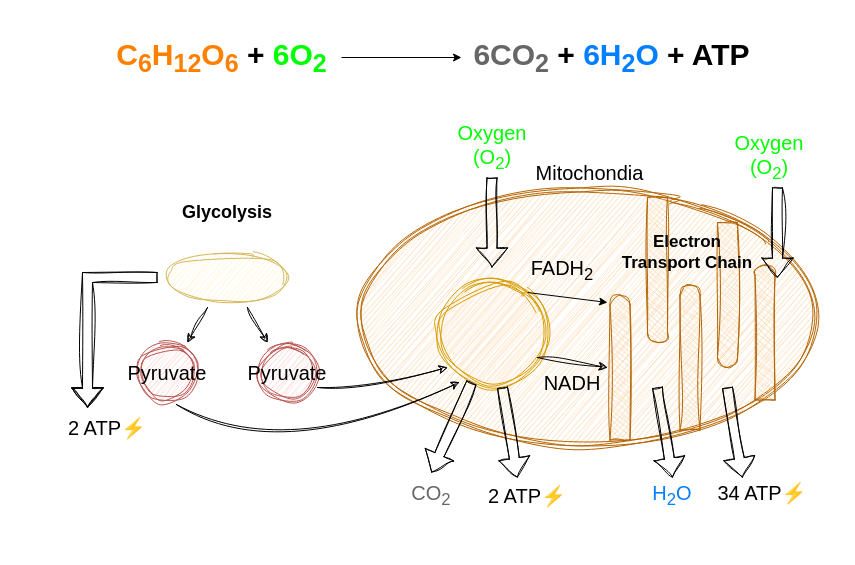
The diagram is 855 pixels wide and 565 high, and some of its shapes have lost their labels. The box of each missing label's shape, as (x1, y1, x2, y2) in pixels:
Glucose: (166, 252, 288, 302)
Krebs Cycle: (436, 276, 548, 388)
